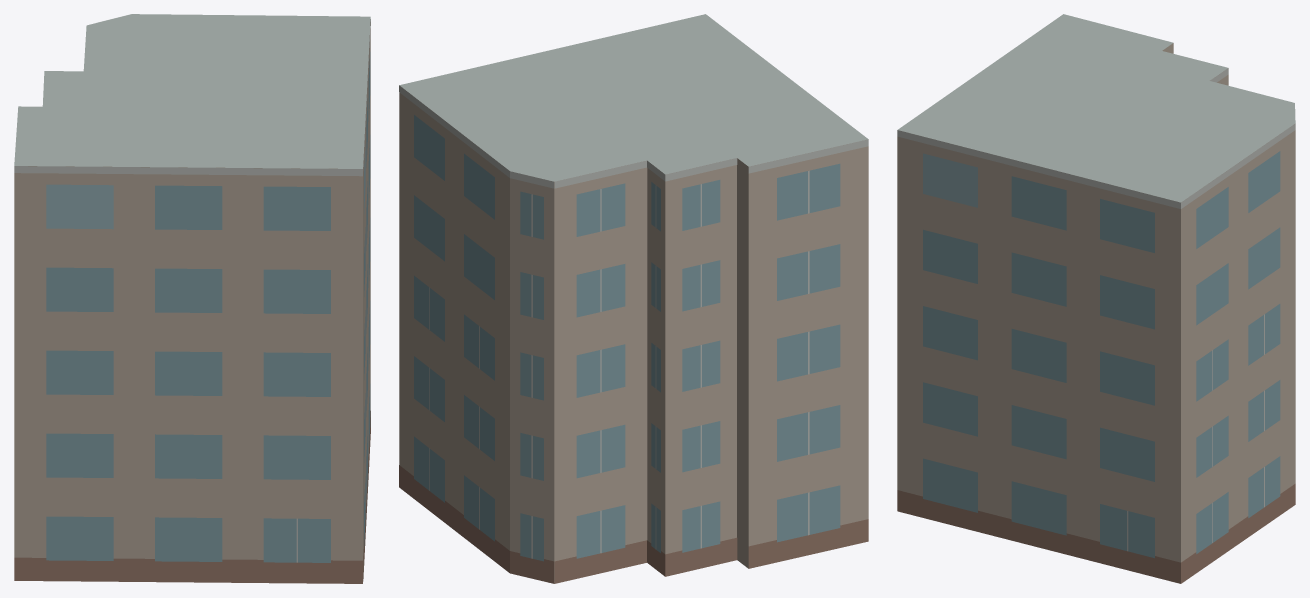
The model's file is survey-upis-32984801.glb.
3 renders of one model, left to right at view 1: azimuth 30°, elevation 25°; view 2: azimuth 150°, elevation 25°; view 3: azimuth 270°, elevation 25°, orthographic. The views are drawn at different scales.
Parts seen in each view (by area): view 1: survey-upis-32984801.tmp; view 2: survey-upis-32984801.tmp; view 3: survey-upis-32984801.tmp.
Part boxes in pixels (x1,y1,x2,y2): survey-upis-32984801.tmp: (14,14,370,583); survey-upis-32984801.tmp: (399,14,868,583); survey-upis-32984801.tmp: (897,14,1295,583).
Bounding box in the file's own units: 14.96 × 14.1 × 13.36.
